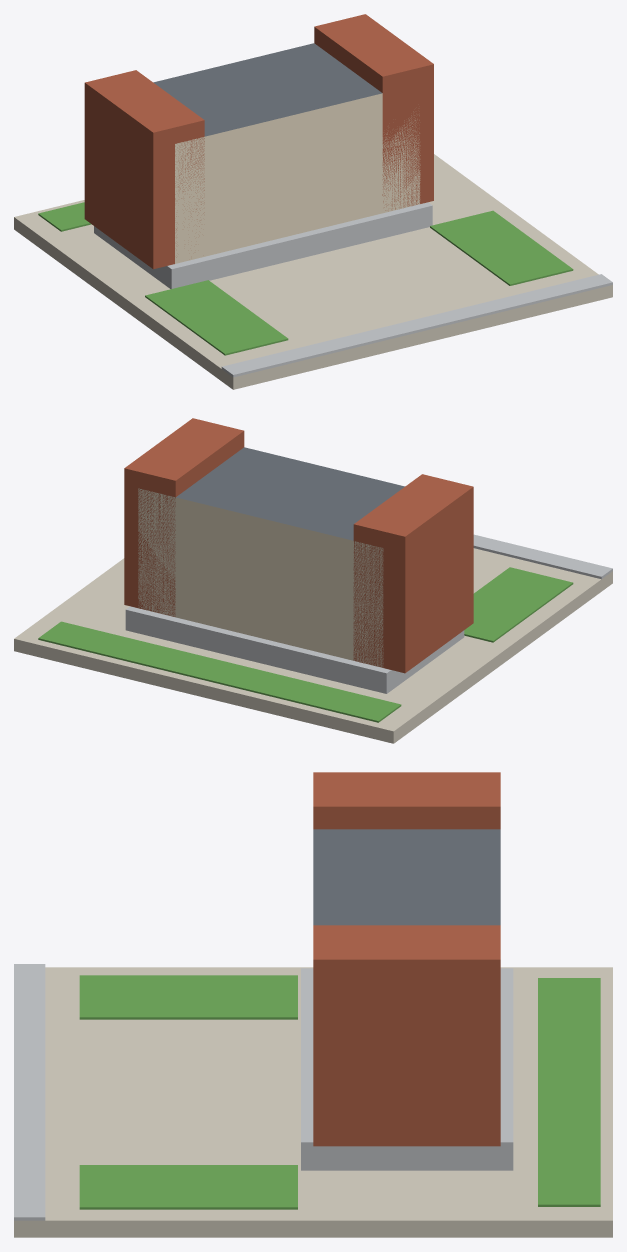
The picture shows the model from 3 angles, top to bottom: view 1: azimuth 30°, elevation 25°; view 2: azimuth 150°, elevation 25°; view 3: azimuth 270°, elevation 25°; orthographic projection. The views are drawn at different scales.
Visible parts, largest first — view 1: b28_v2_lod2; view 2: b28_v2_lod2; view 3: b28_v2_lod2.
Boxes of the visible parts, bbox=[...] form: b28_v2_lod2: bbox=[14, 14, 612, 389]; b28_v2_lod2: bbox=[14, 418, 612, 743]; b28_v2_lod2: bbox=[14, 772, 612, 1237].
Size of the model in its own units: 0.96 by 0.41 by 0.96.
